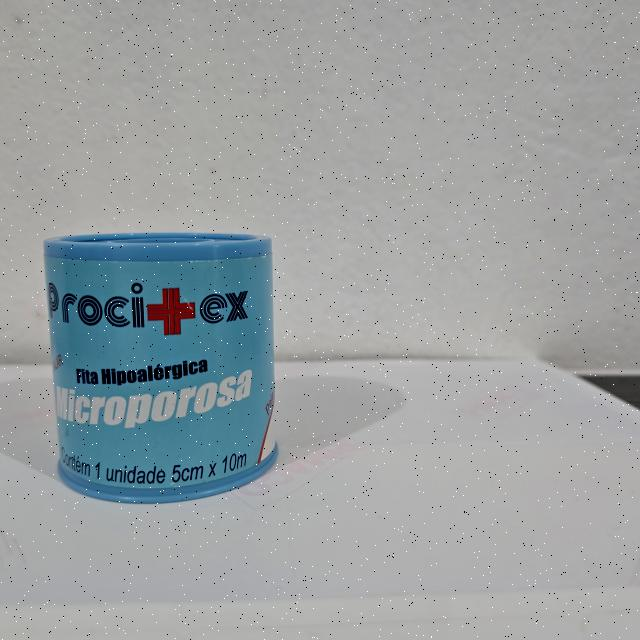procitex: (39, 223, 285, 508)
